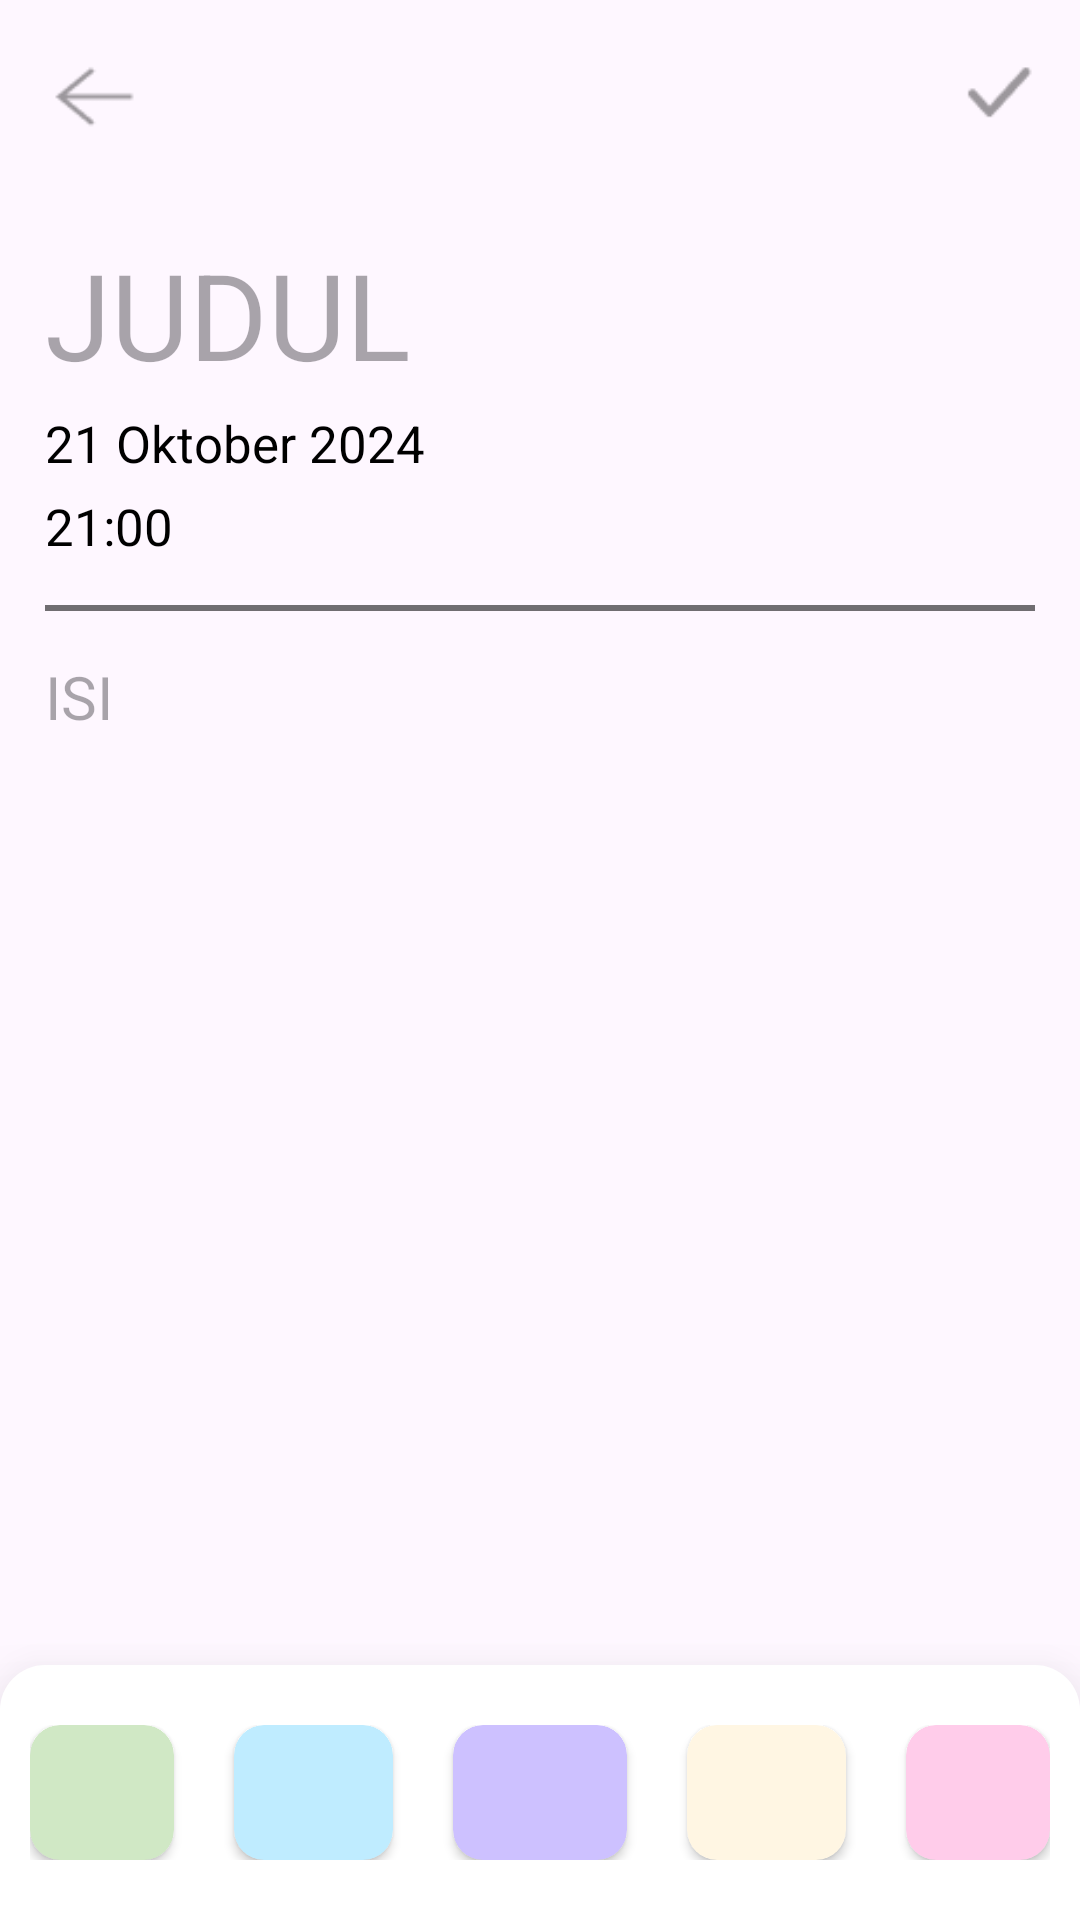

Where to tap for icons on this 1080px x 1920px app screen, as (x,y):
back: (94,96)
done: (999,92)
